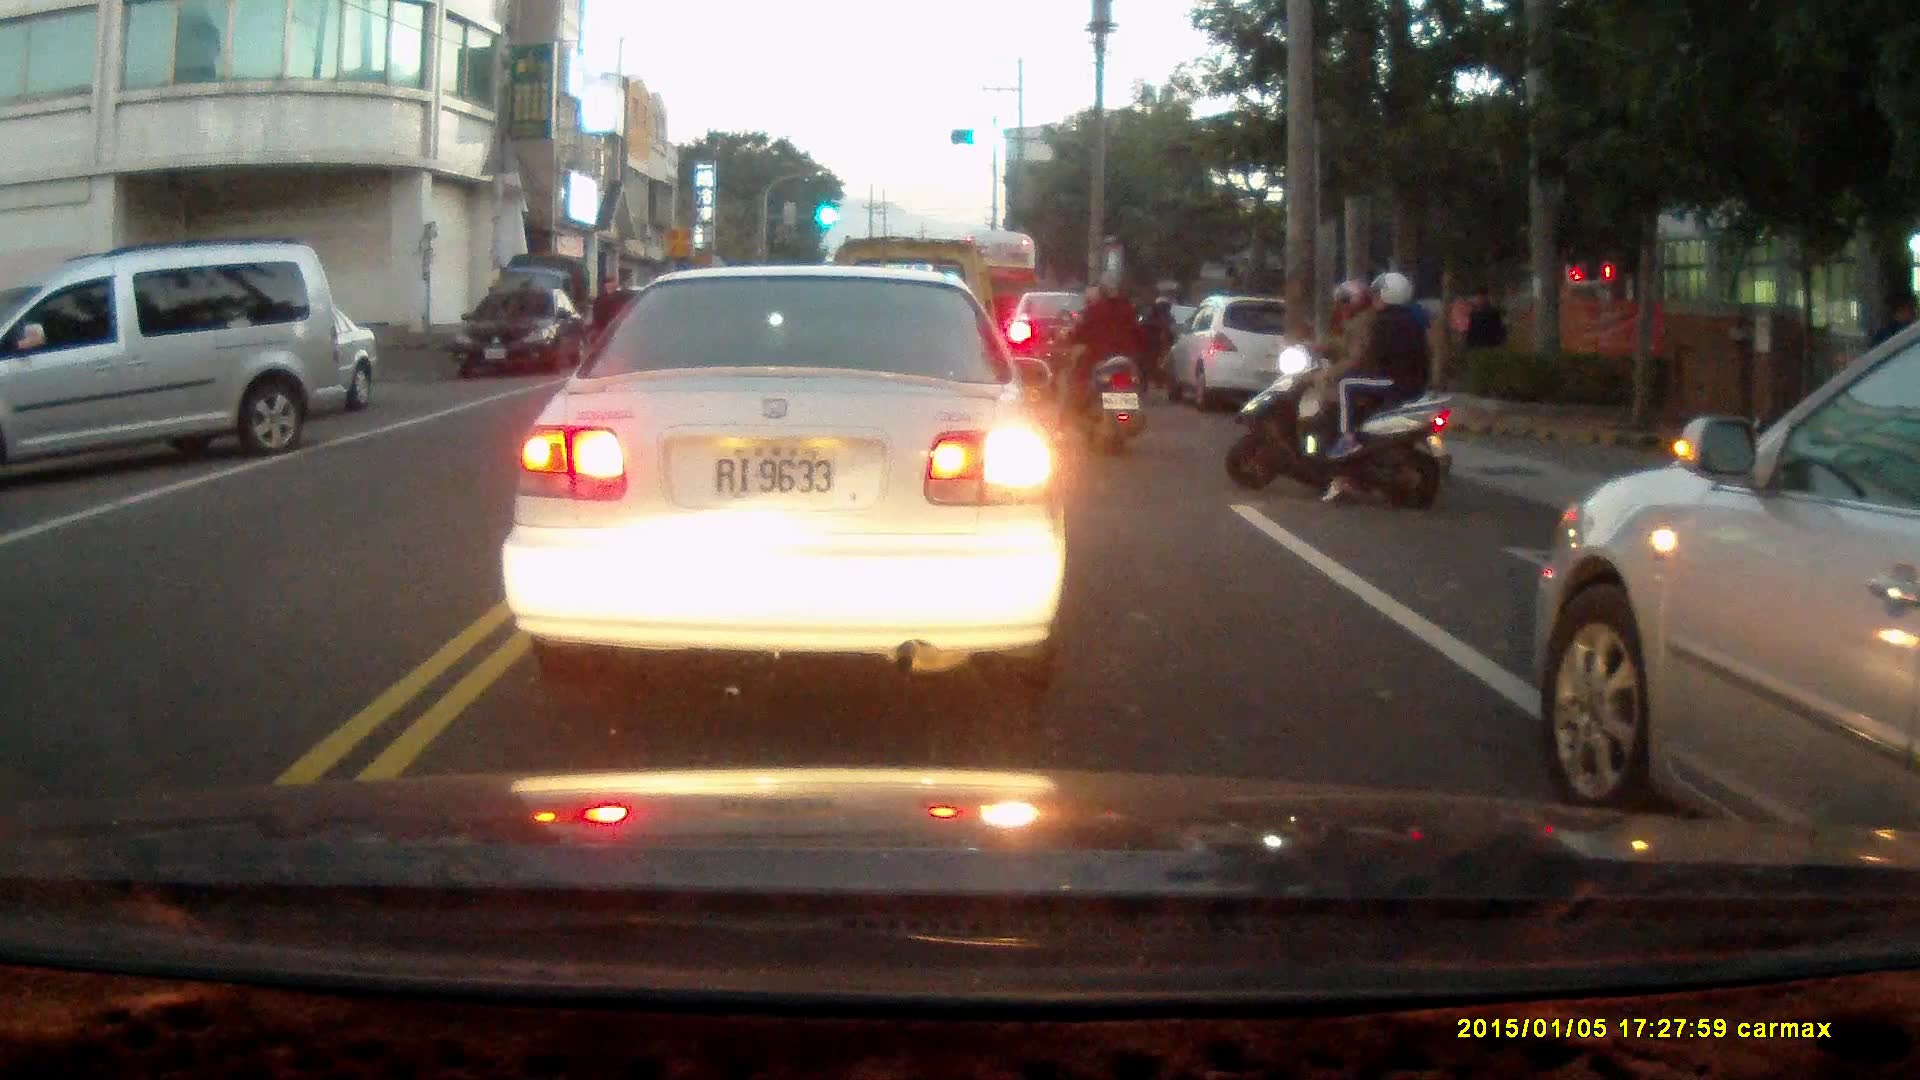pedestrian: (1459, 280, 1503, 378), (590, 274, 624, 358), (612, 274, 640, 363)
rider: (1221, 271, 1452, 512), (1053, 267, 1144, 456), (1141, 295, 1175, 384)
vehicle: (520, 263, 1061, 660), (1533, 312, 1918, 851), (1, 243, 357, 481), (1161, 294, 1326, 408), (1001, 287, 1137, 397), (459, 284, 586, 378)
